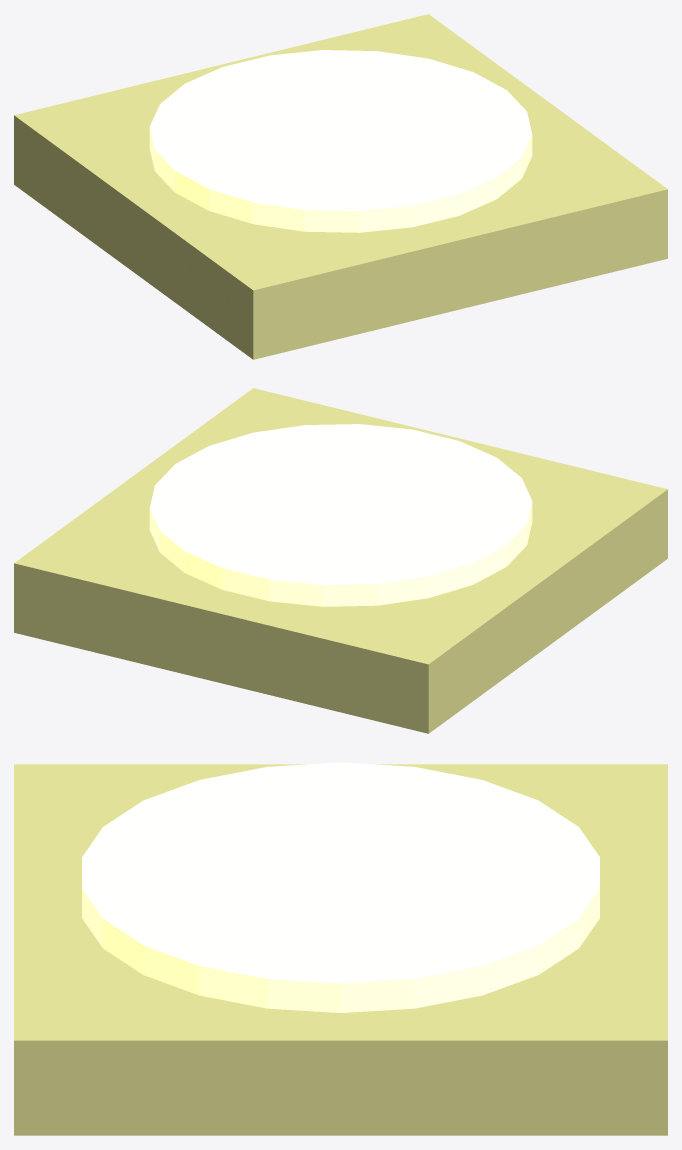
Rendered from Goal_Thin.glb.
3 views of the same model, one above another, from view 1: azimuth 30°, elevation 25°; view 2: azimuth 150°, elevation 25°; view 3: azimuth 270°, elevation 25° (orthographic). The views are drawn at different scales.
Parts seen in each view (by area): view 1: Goal_Thin_body, glow_disc.004; view 2: Goal_Thin_body, glow_disc.004; view 3: Goal_Thin_body, glow_disc.004.
Boxes of the visible parts, x1=… form: Goal_Thin_body: x1=14, y1=14, x2=667, y2=359; glow_disc.004: x1=149, y1=50, x2=532, y2=232; Goal_Thin_body: x1=14, y1=388, x2=667, y2=733; glow_disc.004: x1=149, y1=424, x2=532, y2=606; Goal_Thin_body: x1=14, y1=764, x2=667, y2=1135; glow_disc.004: x1=82, y1=762, x2=599, y2=1012.
Size of the model in its own units: 1 by 0.21 by 1.
